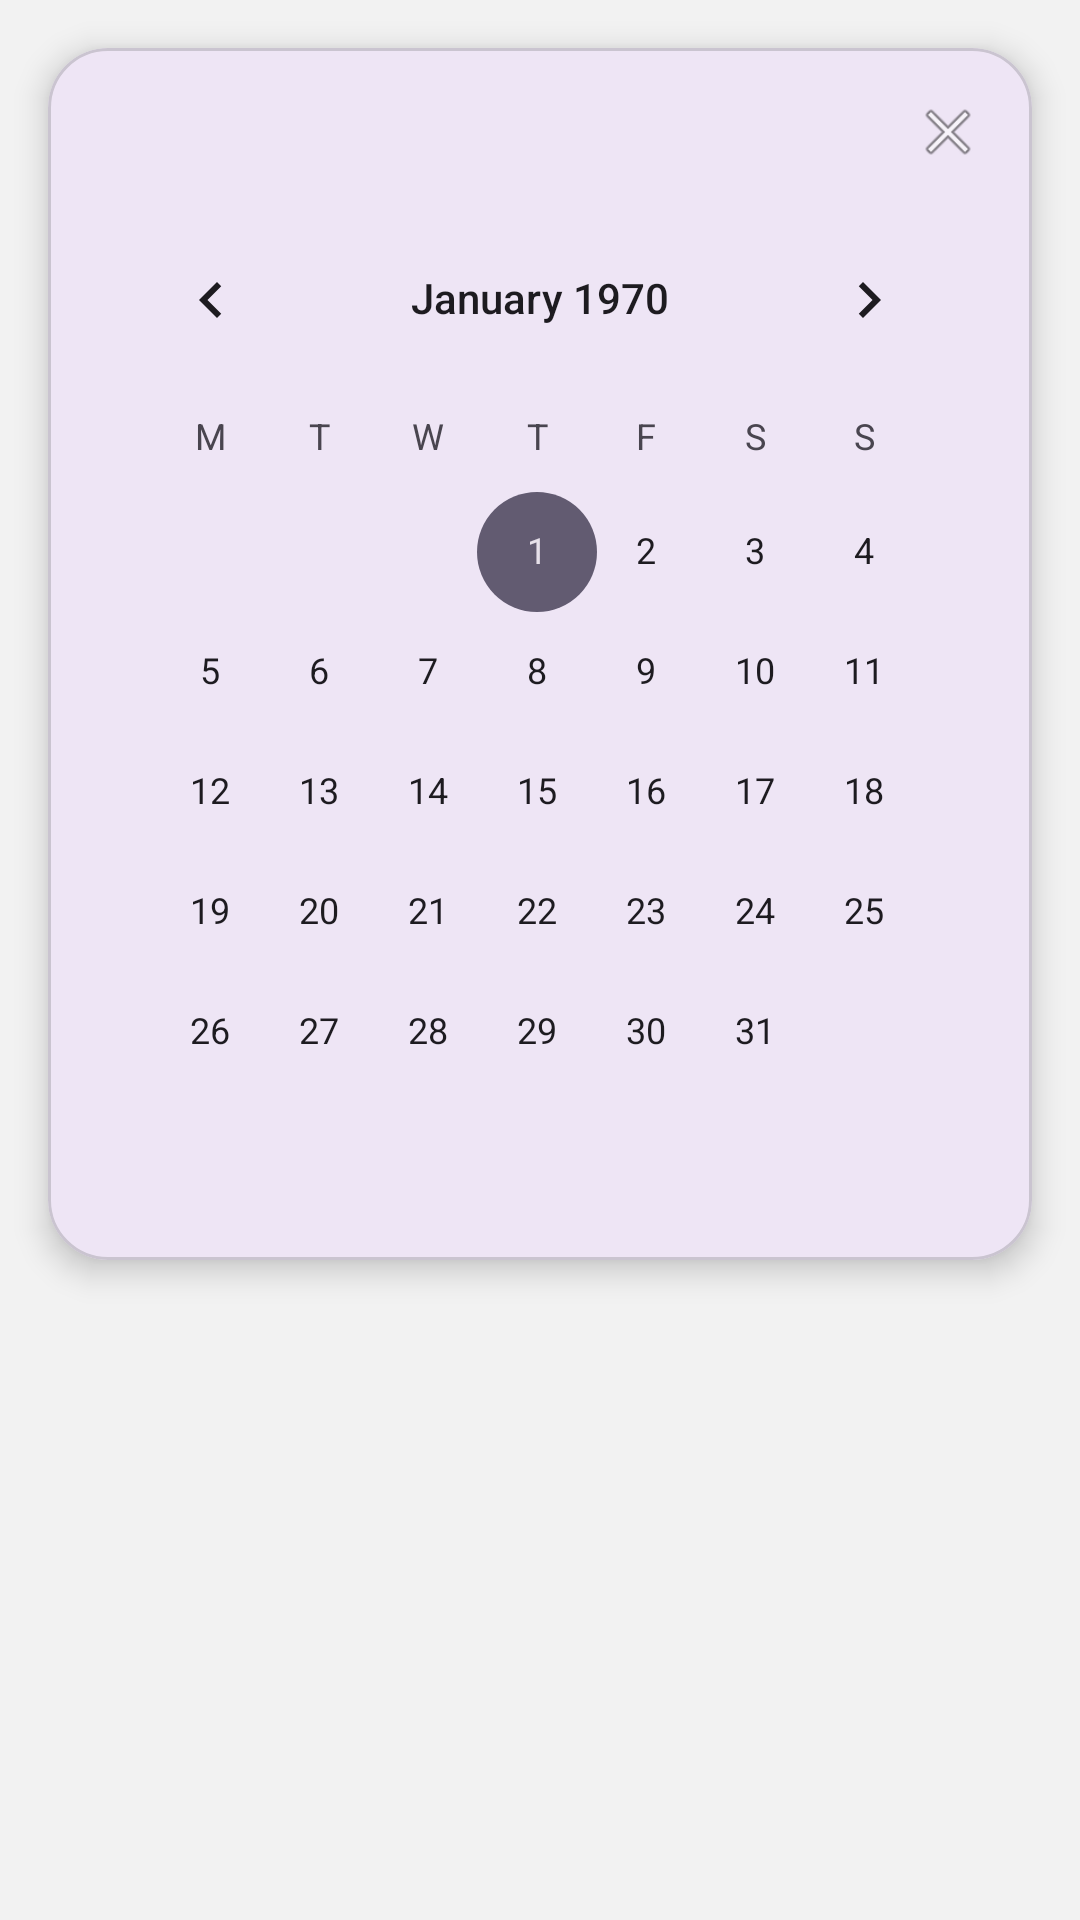

Icons on this 1080px×1920px Android screen, each with the point to tap as (x,y):
close clear cancel: (948,132)
